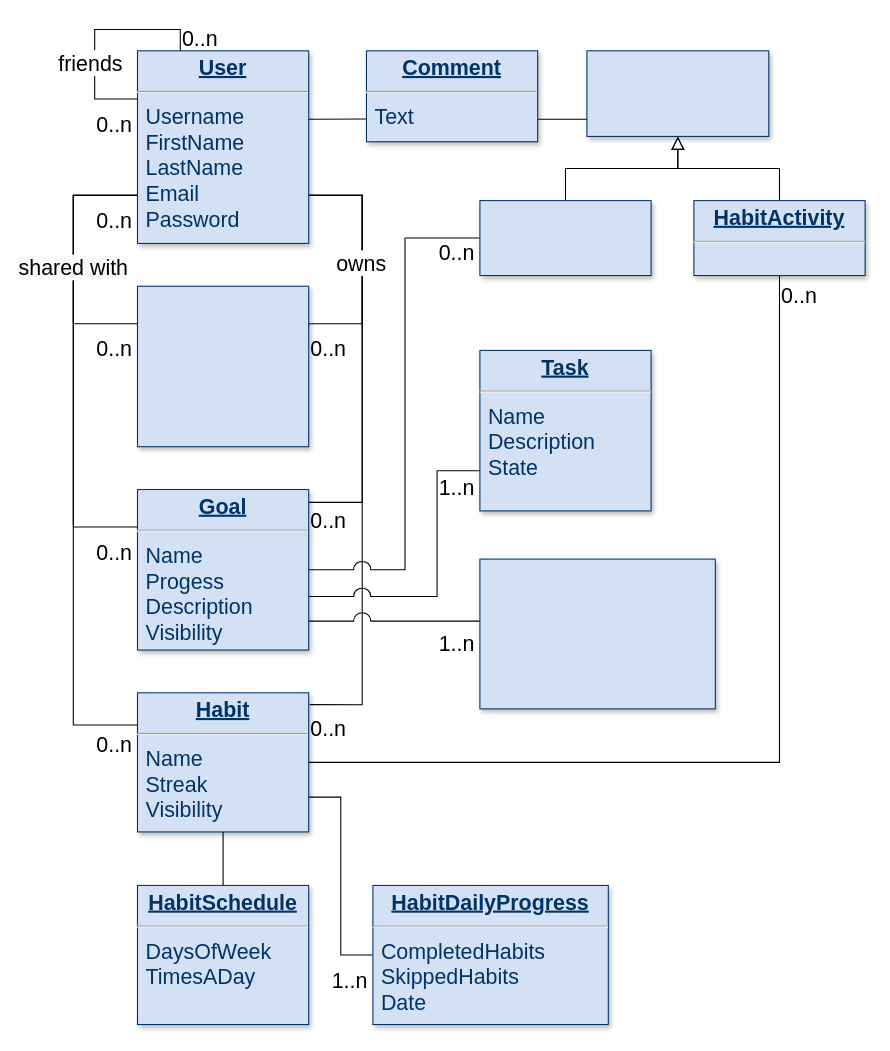
This 890x1051 diagram has some shape labels left out. The shapes that lost their labels are listed below. From the top down, each one's centre as x and y in pixels, then its label:
point (678, 94): Activity Text
point (566, 239): GoalActivity
point (223, 367): GoalPlan Name Description PlanData Visibility
point (598, 635): GoalDailyProgress WorkInProgressTasks CompletedTasks Date
